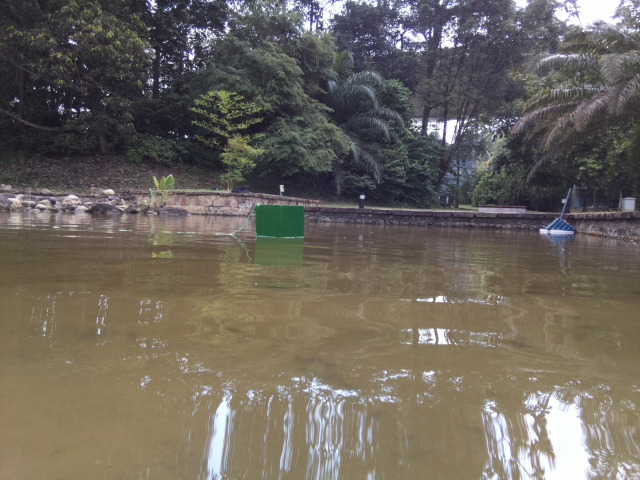obstacle: (254, 204, 306, 241)
